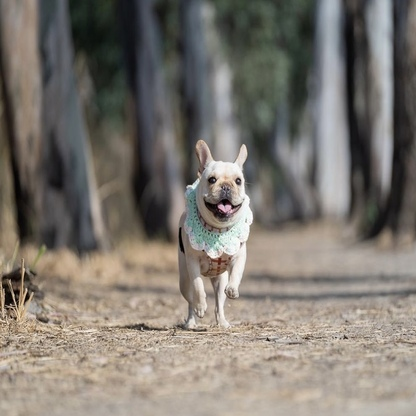bulldog: (174, 137, 254, 333)
